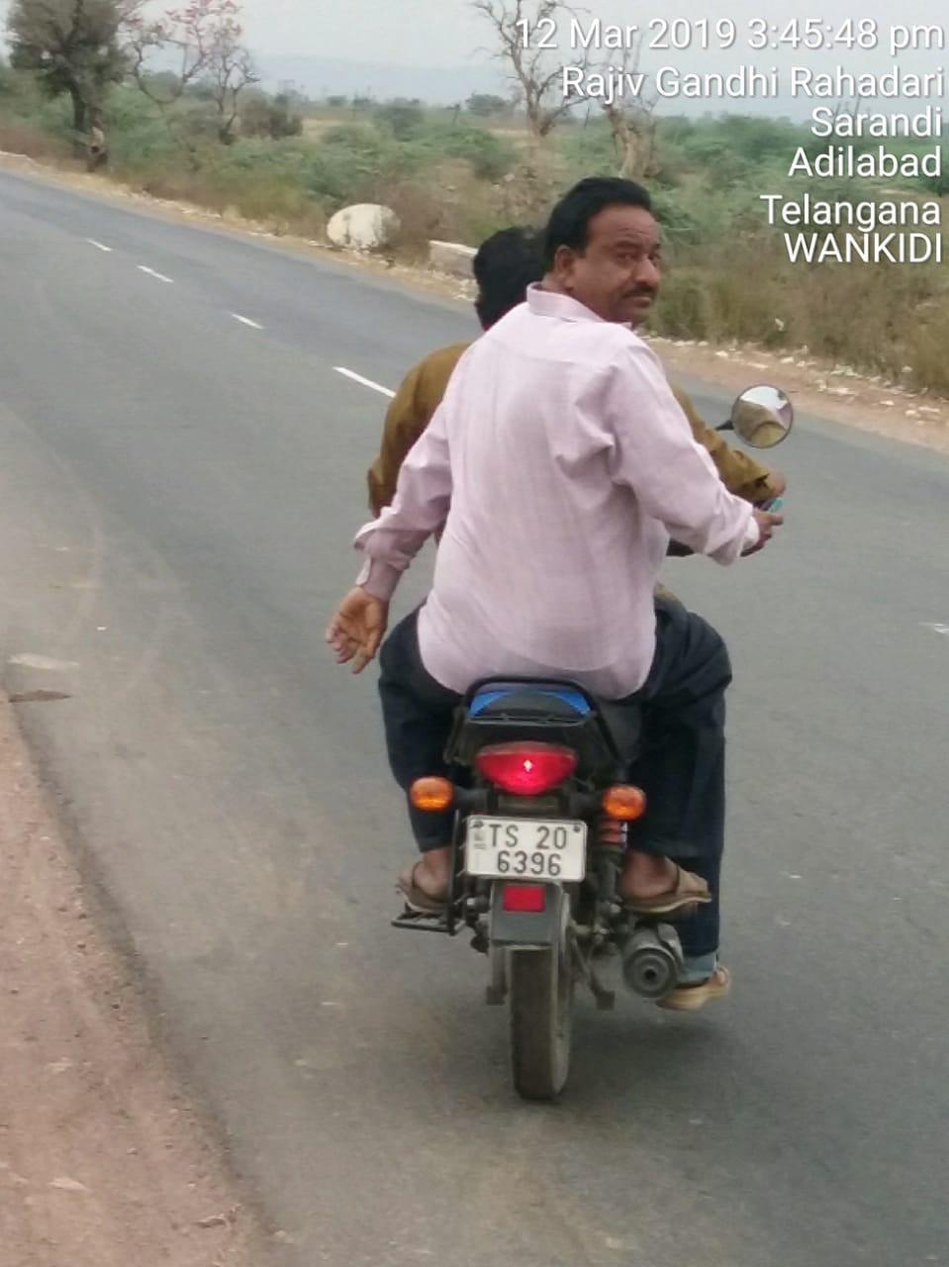plate: (451, 806, 607, 898)
